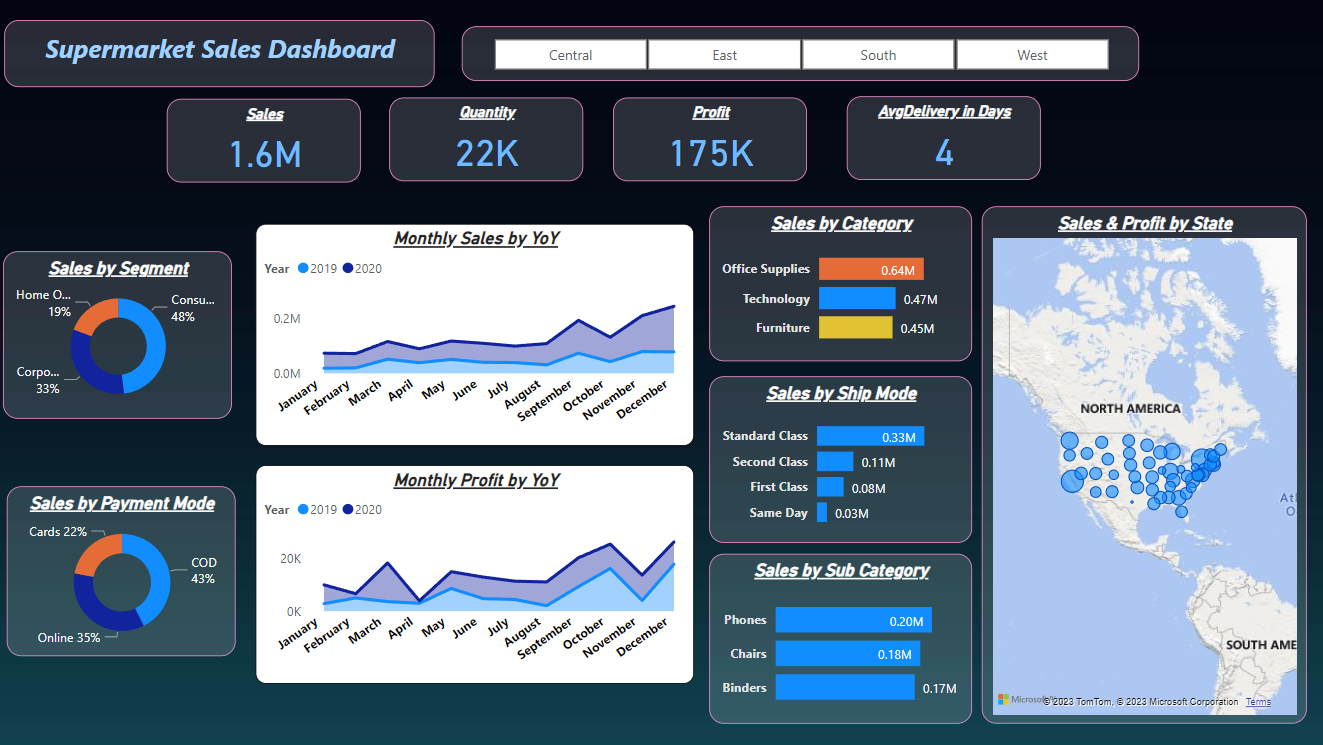

The page's visual inventory and layout, read from the dashboard file:
{"tool":"powerbi","page":{"name":"Page 1","canvas":[1280,720],"ordinal":0},"visuals":[{"type":"clusteredBarChart","title":"Sales by Category","fields":{"Category":["SuperStore_Sales_Dataset.Category"],"Y":["Sum(SuperStore_Sales_Dataset.Sales)"]},"box":[686.2,199,253.3,149.5],"z":0},{"type":"clusteredBarChart","title":"Sales by Sub Category","fields":{"Category":["SuperStore_Sales_Dataset.Sub-Category"],"Y":["Sum(SuperStore_Sales_Dataset.Sales)"]},"box":[686.2,534.3,253.3,164],"z":1000},{"type":"stackedAreaChart","title":"Monthly Sales by YoY","fields":{"Category":["SuperStore_Sales_Dataset.Order Date.Variation.Date Hierarchy.Month","SuperStore_Sales_Dataset.Order Date.Variation.Date Hierarchy.Day"],"Y":["Sum(SuperStore_Sales_Dataset.Sales)"],"Series":["SuperStore_Sales_Dataset.Order Date.Variation.Date Hierarchy.Year"]},"box":[248.4,215.9,423.3,214.7],"z":2000},{"type":"stackedAreaChart","title":"Monthly Profit by YoY","fields":{"Category":["SuperStore_Sales_Dataset.Order Date.Variation.Date Hierarchy.Month","SuperStore_Sales_Dataset.Order Date.Variation.Date Hierarchy.Day"],"Series":["SuperStore_Sales_Dataset.Order Date.Variation.Date Hierarchy.Year"],"Y":["Sum(SuperStore_Sales_Dataset.Profit)"]},"box":[248.4,448.6,423.3,211.1],"z":3000},{"type":"card","title":"Sales","fields":{"Values":["Sum(SuperStore_Sales_Dataset.Sales)"]},"box":[162.8,95.3,186.9,80.8],"z":4000},{"type":"donutChart","title":"Sales by Segment","fields":{"Category":["SuperStore_Sales_Dataset.Segment"],"Y":["Sum(SuperStore_Sales_Dataset.Sales)"]},"box":[4.8,242.4,220.7,161.6],"z":5000},{"type":"slicer","title":"Sales by Payment Mode","fields":{"Values":["SuperStore_Sales_Dataset.Region"]},"box":[447.4,25.3,653.7,53.1],"z":6000},{"type":"donutChart","title":"Sales by Payment Mode","fields":{"Category":["SuperStore_Sales_Dataset.Payment Mode"],"Y":["Sum(SuperStore_Sales_Dataset.Sales)"]},"box":[8.4,469.1,220.7,164],"z":7000},{"type":"textbox","box":[6,19.3,414.9,65.1],"z":8000},{"type":"clusteredBarChart","title":"Sales by Ship Mode","fields":{"Y":["Sum(SuperStore_Sales_Dataset.Sales)"],"Category":["SuperStore_Sales_Dataset.Ship Mode"]},"box":[686.2,363,253.3,160.4],"z":9000},{"type":"card","title":"Profit","fields":{"Values":["Sum(SuperStore_Sales_Dataset.Profit)"]},"box":[593.4,94.1,186.9,80.8],"z":10000},{"type":"map","title":"Sales & Profit by State","fields":{"Category":["SuperStore_Sales_Dataset.State"],"Size":["Sum(SuperStore_Sales_Dataset.Profit)"]},"box":[949.1,199,313.6,499.3],"z":11000},{"type":"card","title":"Quantity","fields":{"Values":["Sum(SuperStore_Sales_Dataset.Quantity)"]},"box":[377.5,94.1,186.9,80.8],"z":12000},{"type":"card","title":"AvgDelivery in Days","fields":{"Values":["Avg(SuperStore_Sales_Dataset.AvgDelivery)"]},"box":[818.9,92.9,186.9,80.8],"z":13000}]}

Visuals, with their boxes in screenshot pixels (x1, y1, x2, y2), scaled from the page's 1280x720 canvas onto the 1323x745 screenshot:
"Sales by Category" clusteredBarChart: 709/206/971/361
"Sales by Sub Category" clusteredBarChart: 709/553/971/723
"Monthly Sales by YoY" stackedAreaChart: 257/223/694/446
"Monthly Profit by YoY" stackedAreaChart: 257/464/694/683
"Sales" card: 168/99/361/182
"Sales by Segment" donutChart: 5/251/233/418
"Sales by Payment Mode" slicer: 462/26/1138/81
"Sales by Payment Mode" donutChart: 9/485/237/655
textbox: 6/20/435/87
"Sales by Ship Mode" clusteredBarChart: 709/376/971/542
"Profit" card: 613/97/807/181
"Sales & Profit by State" map: 981/206/1305/723
"Quantity" card: 390/97/583/181
"AvgDelivery in Days" card: 846/96/1040/180
